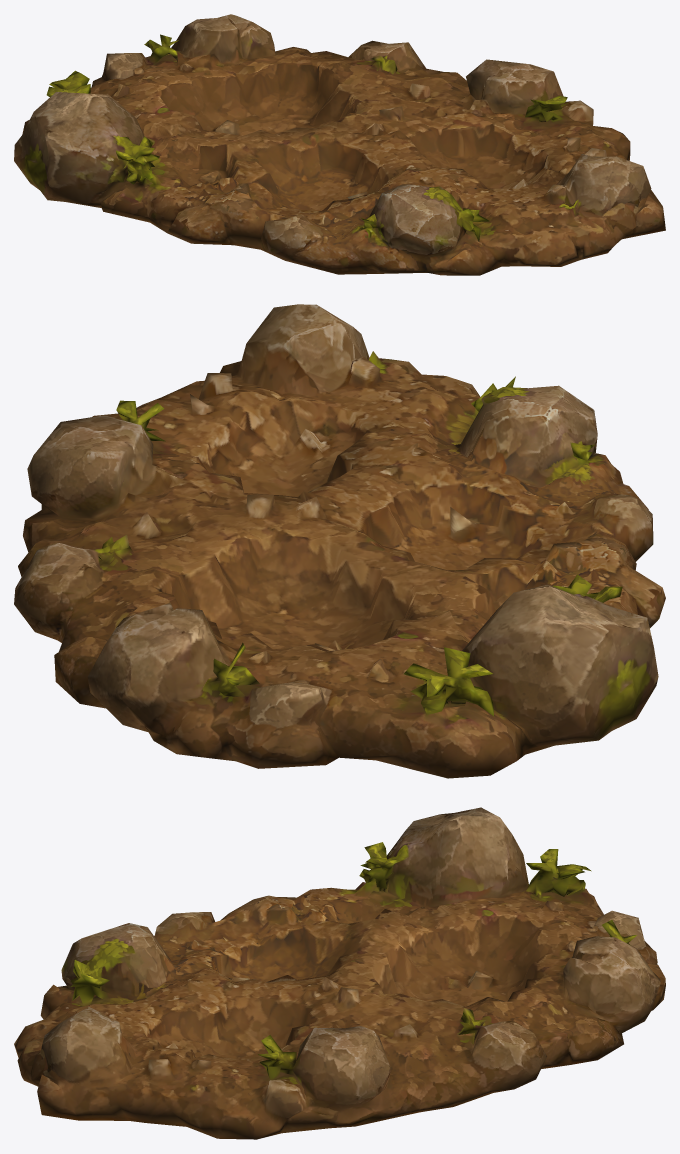
3 renders of one model, top to bottom at view 1: azimuth 30°, elevation 25°; view 2: azimuth 150°, elevation 25°; view 3: azimuth 270°, elevation 25°, orthographic. The views are drawn at different scales.
Parts seen in each view (by area): view 1: amber_crystal_empty_painted; view 2: amber_crystal_empty_painted; view 3: amber_crystal_empty_painted.
Part boxes in pixels (<box>): amber_crystal_empty_painted: <box>14,14,665,275</box>; amber_crystal_empty_painted: <box>14,304,665,778</box>; amber_crystal_empty_painted: <box>14,807,665,1139</box>.
Size of the model in its own units: 6.23 by 1.16 by 6.6.
Materials: 1 (1 with a texture image).
